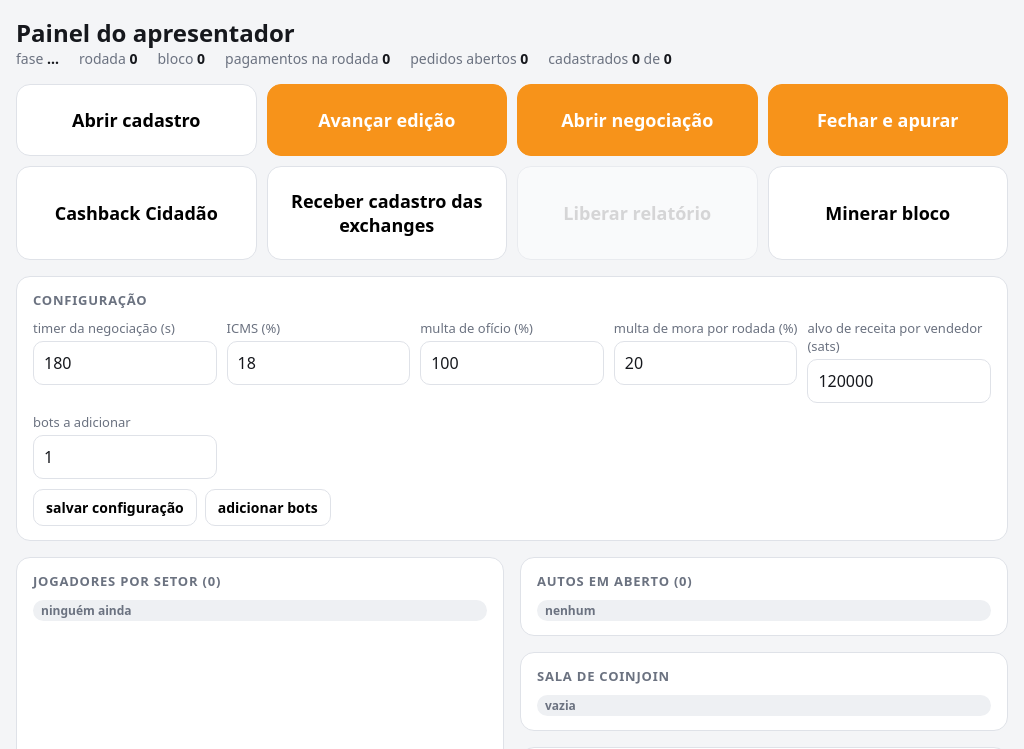
Test: config fields post numbers and show server errors
Expected: the button "Avançar edição" is shown, [266, 84, 507, 156]
Replace the text in the number field labelled "timer da negociação (s)" with "240" at (125, 363), box [33, 341, 217, 385]
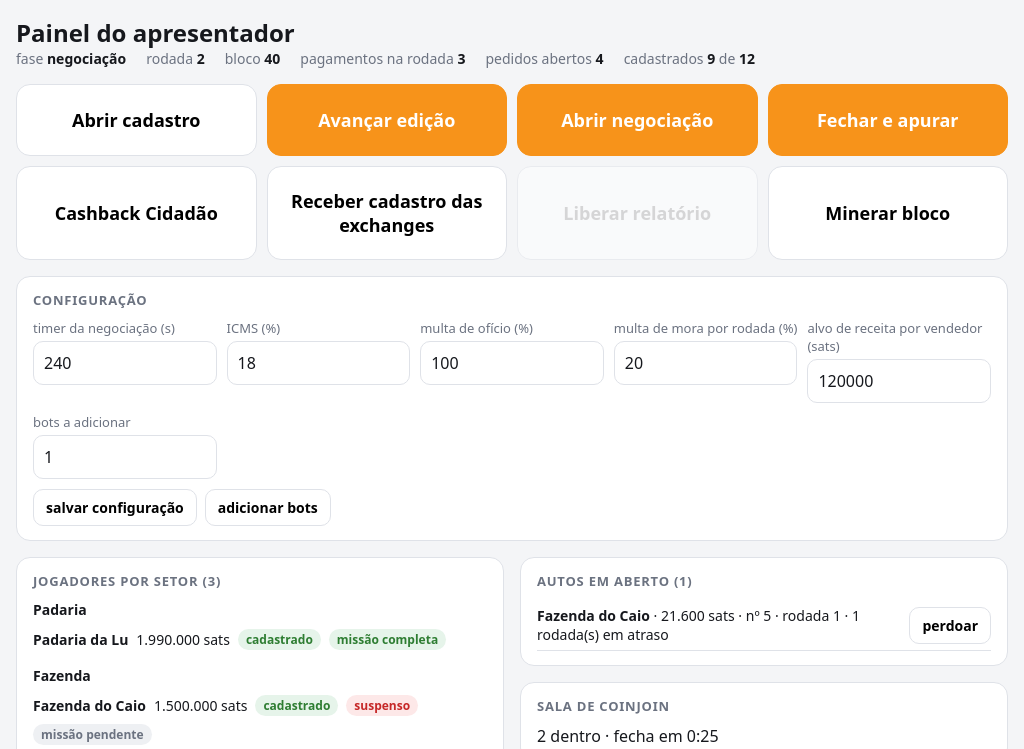
Click the button "salvar configuração" at (115, 508), box [33, 489, 197, 526]
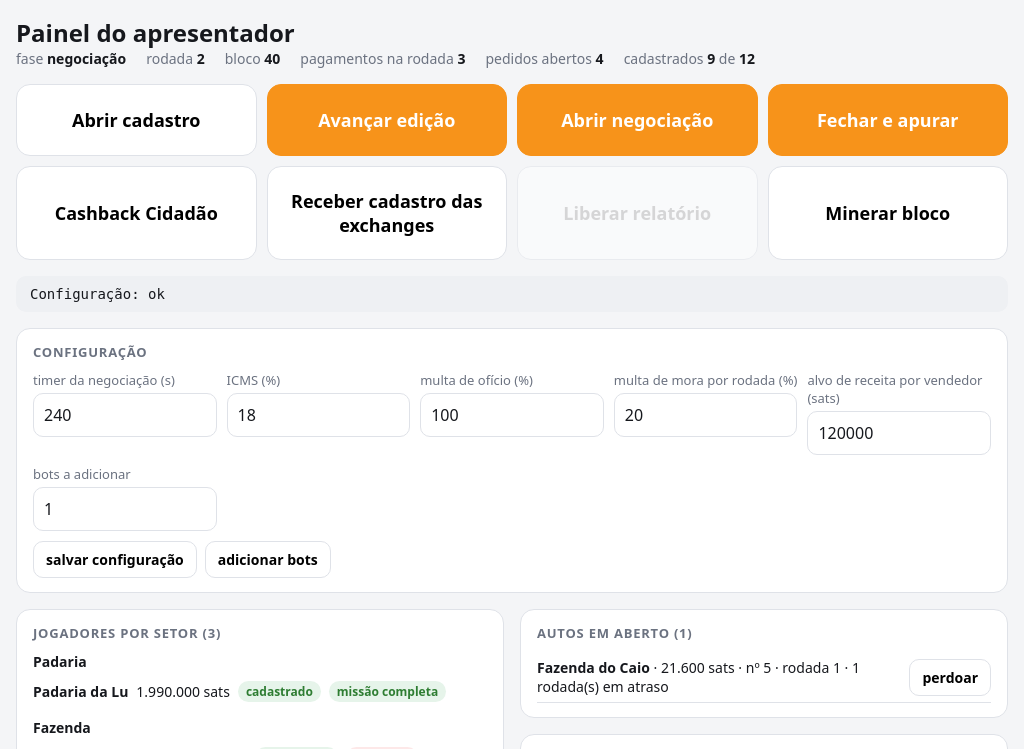
Now the text "Configuração: ok" is shown, box [16, 276, 1008, 312]
Click the button "Avançar edição" at (387, 120), box [266, 84, 507, 156]
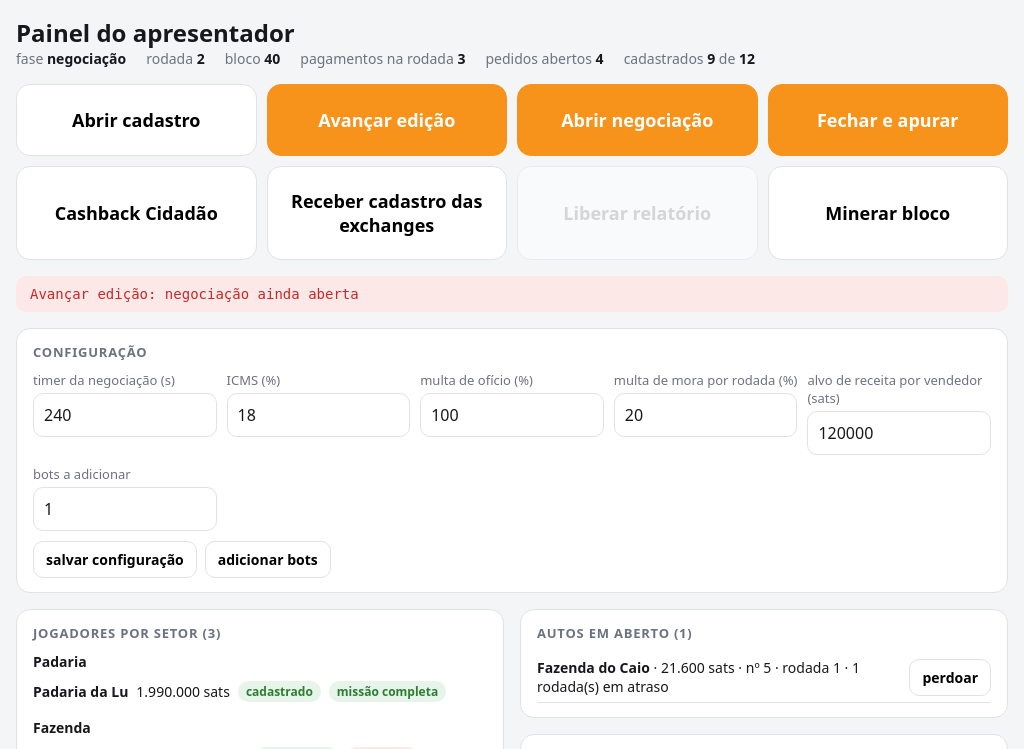
Now the text "Avançar edição: negociação ainda aberta" is shown, box [16, 276, 1008, 312]
